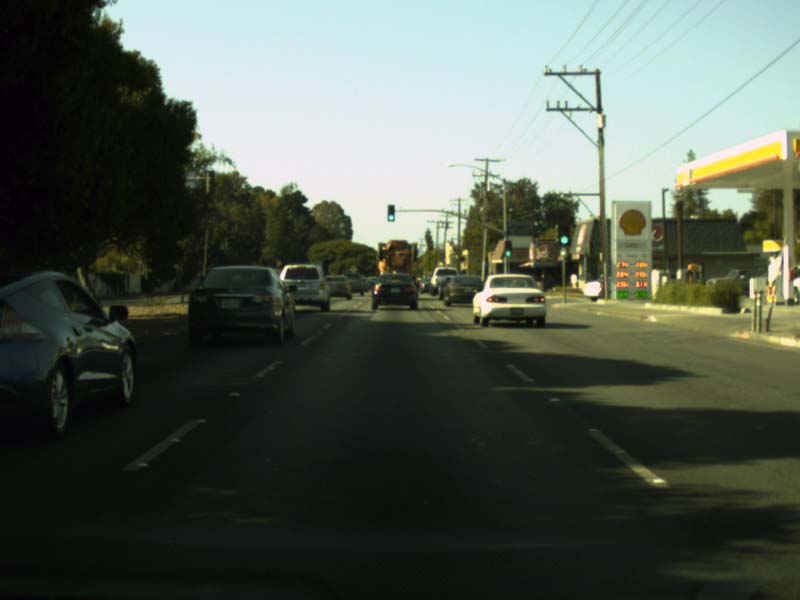Green: (558, 217, 569, 245), (386, 203, 394, 220), (505, 241, 510, 257)
